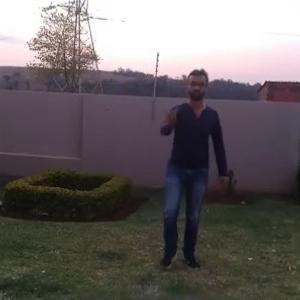takeoff-hand: (157, 101, 183, 129)
